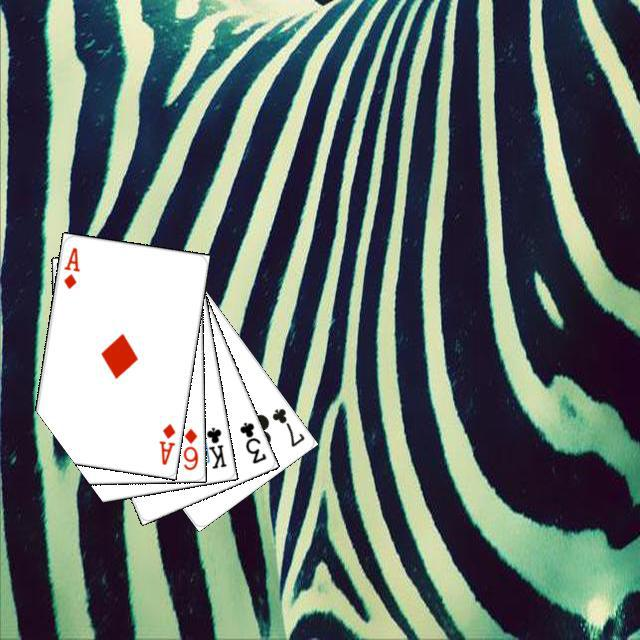3c: (235, 417, 268, 465)
6d: (178, 423, 200, 472)
7c: (267, 403, 307, 449)
Ad: (154, 419, 177, 467), (59, 243, 81, 290)
Kc: (197, 419, 228, 471)
